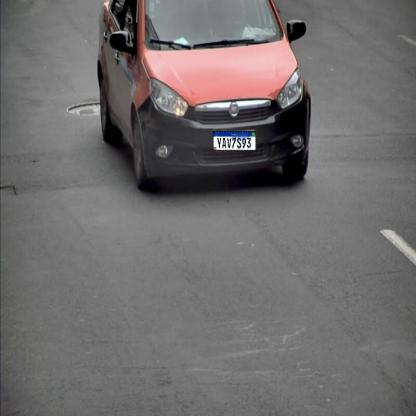PlacaM: (213, 131, 256, 151)
